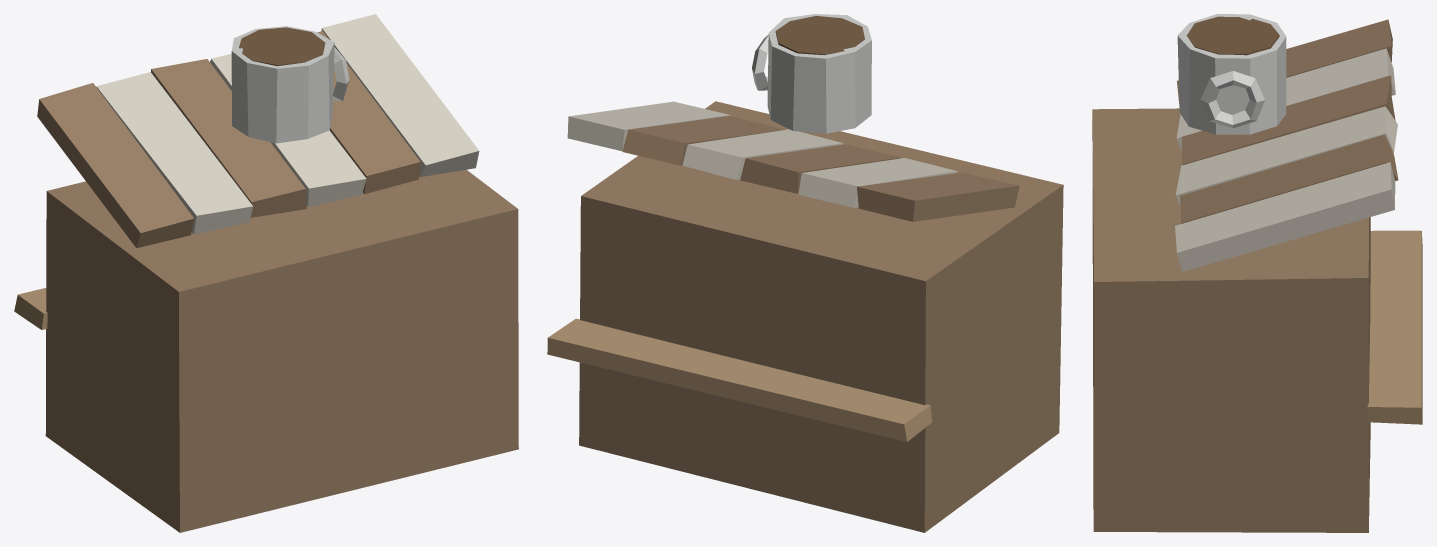
Rendered from coffeestall.fbx.
The picture shows the model from 3 angles, left to right: view 1: azimuth 30°, elevation 25°; view 2: azimuth 150°, elevation 25°; view 3: azimuth 270°, elevation 25°; orthographic projection. The views are drawn at different scales.
Parts seen in each view (by area): view 1: CoffeeStall; view 2: CoffeeStall; view 3: CoffeeStall.
Boxes of the visible parts, x1=… form: CoffeeStall: x1=14, y1=14, x2=518, y2=532; CoffeeStall: x1=547, y1=14, x2=1063, y2=532; CoffeeStall: x1=1092, y1=14, x2=1422, y2=532.
Bounding box in the file's own units: 2.73 × 2.95 × 2.14.
